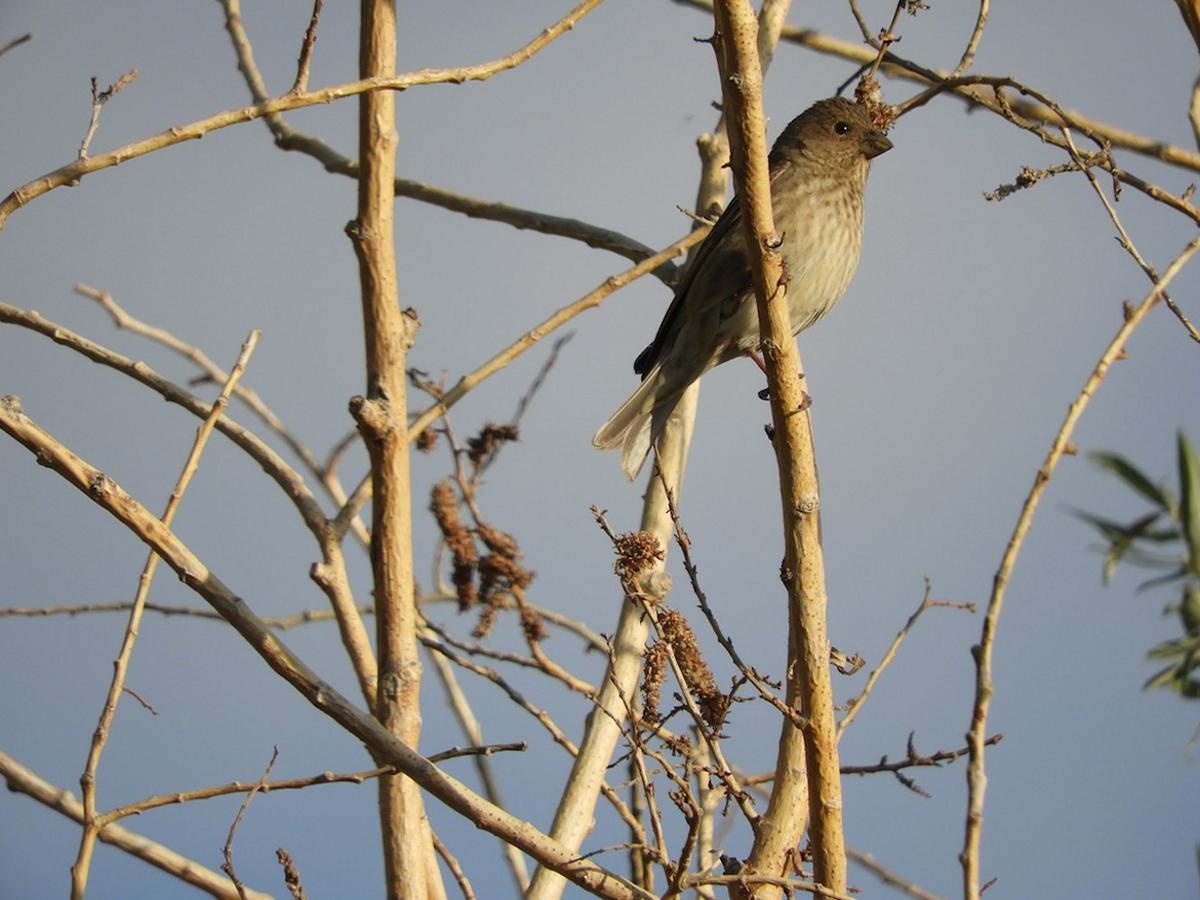rosefinch: (607, 101, 897, 427)
